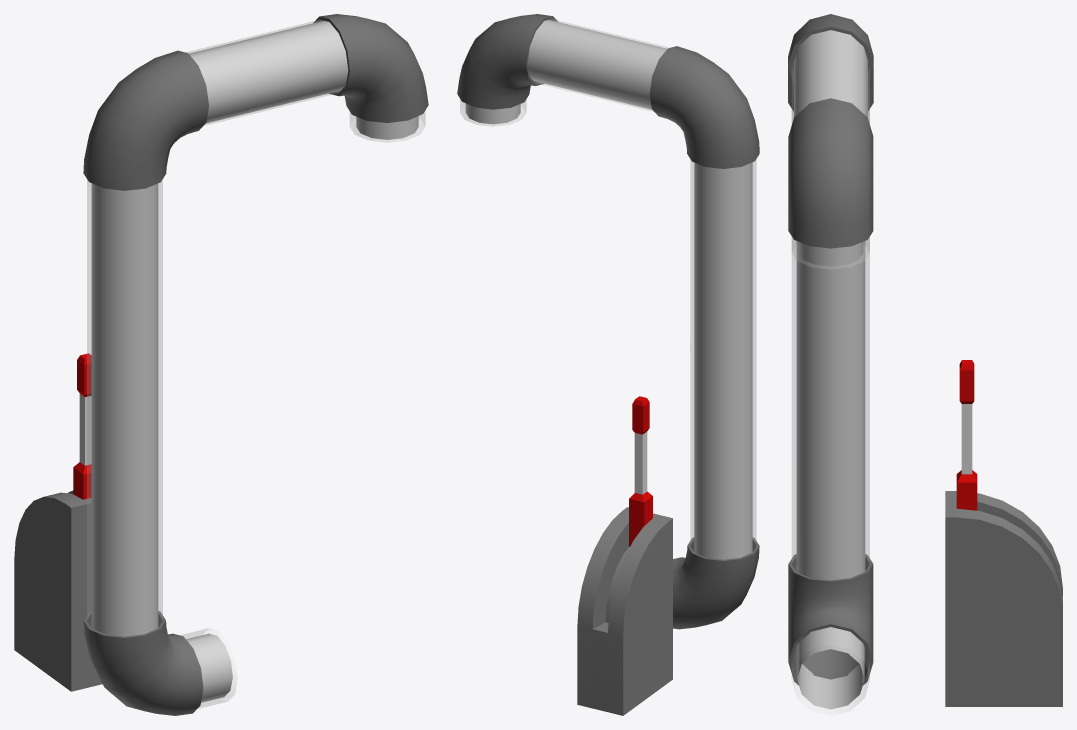
The model's file is lever_obstacle (2).fbx.
The picture shows the model from 3 angles, left to right: view 1: azimuth 30°, elevation 25°; view 2: azimuth 150°, elevation 25°; view 3: azimuth 270°, elevation 25°; orthographic projection. The views are drawn at different scales.
Visible parts, largest first — view 1: pipe_main, pipe_inside, pipe_corners, pipelever_stand, pipe_lever; view 2: pipe_main, pipe_inside, pipe_corners, pipelever_stand, pipe_lever; view 3: pipe_main, pipe_inside, pipelever_stand, pipe_corners, pipe_lever.
Boxes of the visible parts, left/top/right/bottom form: pipe_main: left=87, top=20, right=425, bottom=708; pipe_inside: left=91, top=20, right=418, bottom=702; pipe_corners: left=83, top=14, right=428, bottom=715; pipelever_stand: left=14, top=490, right=102, bottom=691; pipe_lever: left=73, top=353, right=91, bottom=499; pipe_main: left=460, top=19, right=756, bottom=558; pipe_inside: left=465, top=20, right=752, bottom=559; pipe_corners: left=457, top=14, right=759, bottom=629; pipelever_stand: left=577, top=507, right=672, bottom=715; pipe_lever: left=629, top=396, right=652, bottom=546; pipe_main: left=791, top=30, right=869, bottom=715; pipe_inside: left=794, top=30, right=867, bottom=709; pipelever_stand: left=945, top=491, right=1062, bottom=706; pipe_corners: left=788, top=14, right=873, bottom=685; pipe_lever: left=956, top=360, right=977, bottom=510.
Bounding box in the file's own units: 139 × 264 × 95.81.
